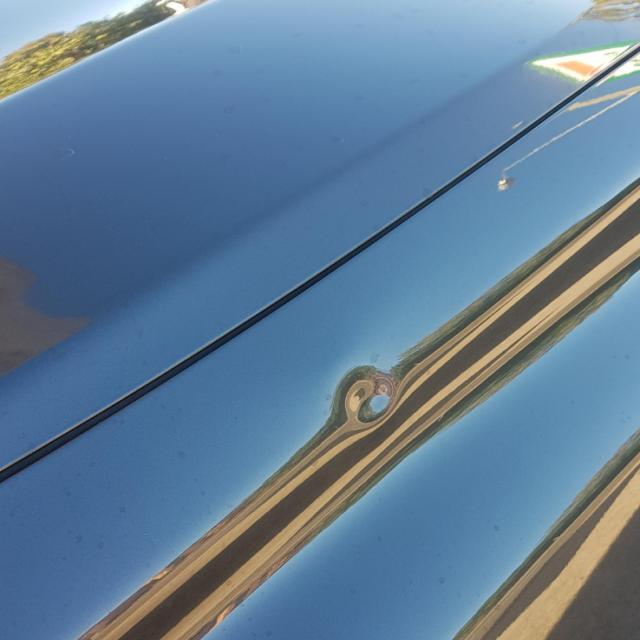dents: (322, 355, 414, 435)
